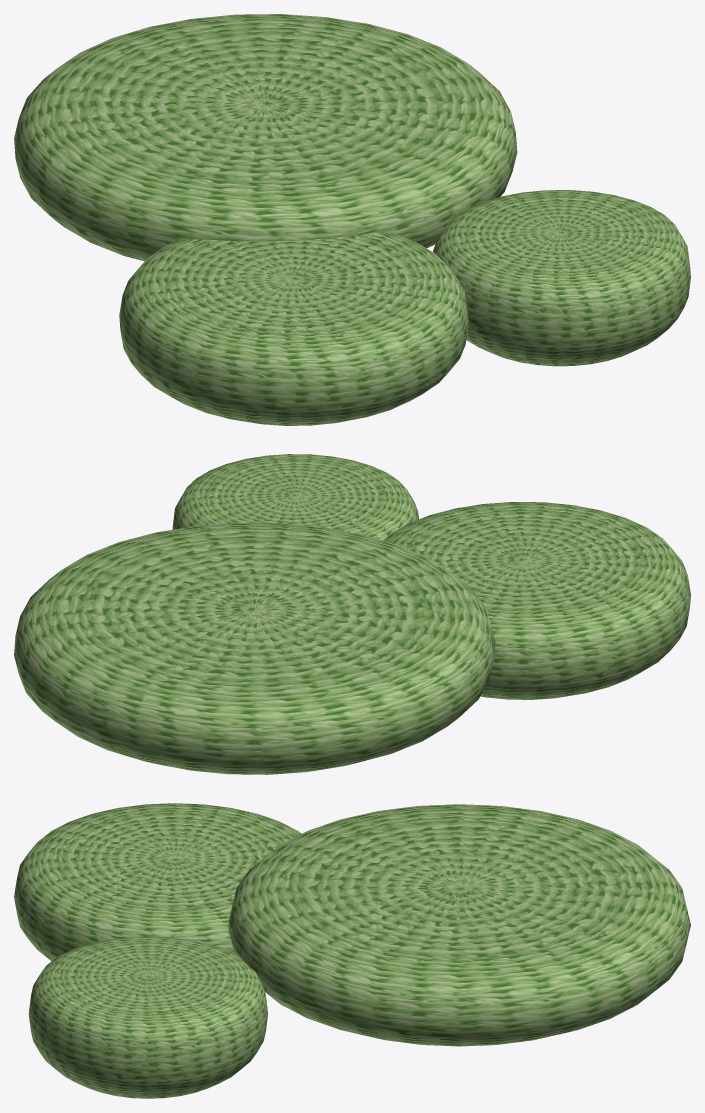
Rendered from bg_land.FBX.
3 views of the same model, one above another, from view 1: azimuth 30°, elevation 25°; view 2: azimuth 150°, elevation 25°; view 3: azimuth 270°, elevation 25° (orthographic). The views are drawn at different scales.
Parts seen in each view (by area): view 1: Sphere023, Sphere021, Sphere022; view 2: Sphere023, Sphere021, Sphere022; view 3: Sphere023, Sphere022, Sphere021.
Boxes of the visible parts, bbox=[...] form: Sphere023: bbox=[14, 14, 517, 261]; Sphere021: bbox=[119, 232, 468, 425]; Sphere022: bbox=[433, 190, 690, 366]; Sphere023: bbox=[14, 523, 495, 774]; Sphere021: bbox=[383, 502, 690, 699]; Sphere022: bbox=[172, 454, 418, 540]; Sphere023: bbox=[228, 804, 690, 1046]; Sphere022: bbox=[28, 936, 267, 1098]; Sphere021: bbox=[14, 803, 301, 960].
Bounding box in the file's own units: 3836 × 1054 × 4737.
Materials: 1 (1 with a texture image).
